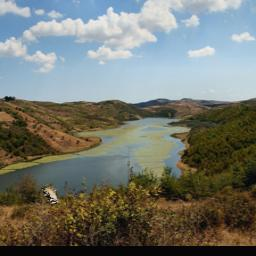Woodpecker: (41, 184, 60, 204)
